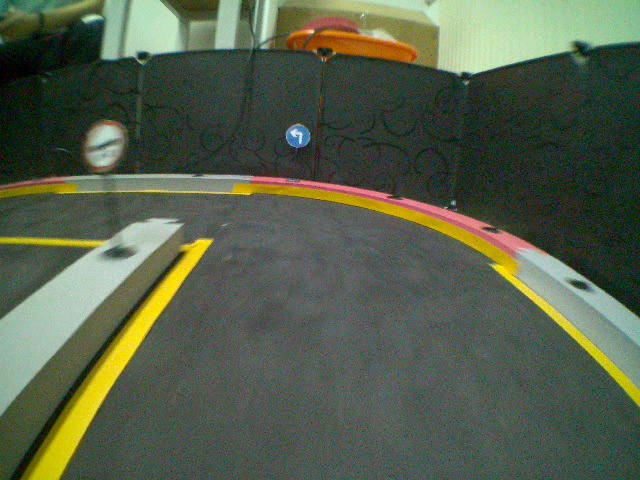Check: (84, 118, 131, 172)
turn: (285, 121, 312, 149)
